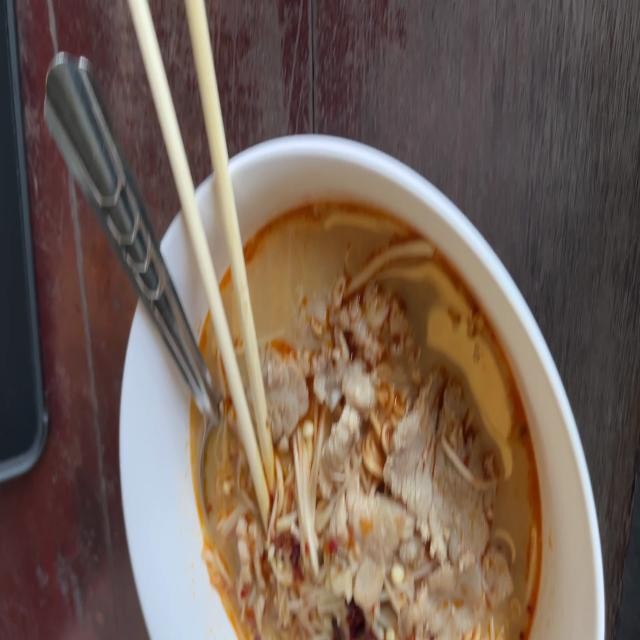noodle: (186, 201, 544, 640)
